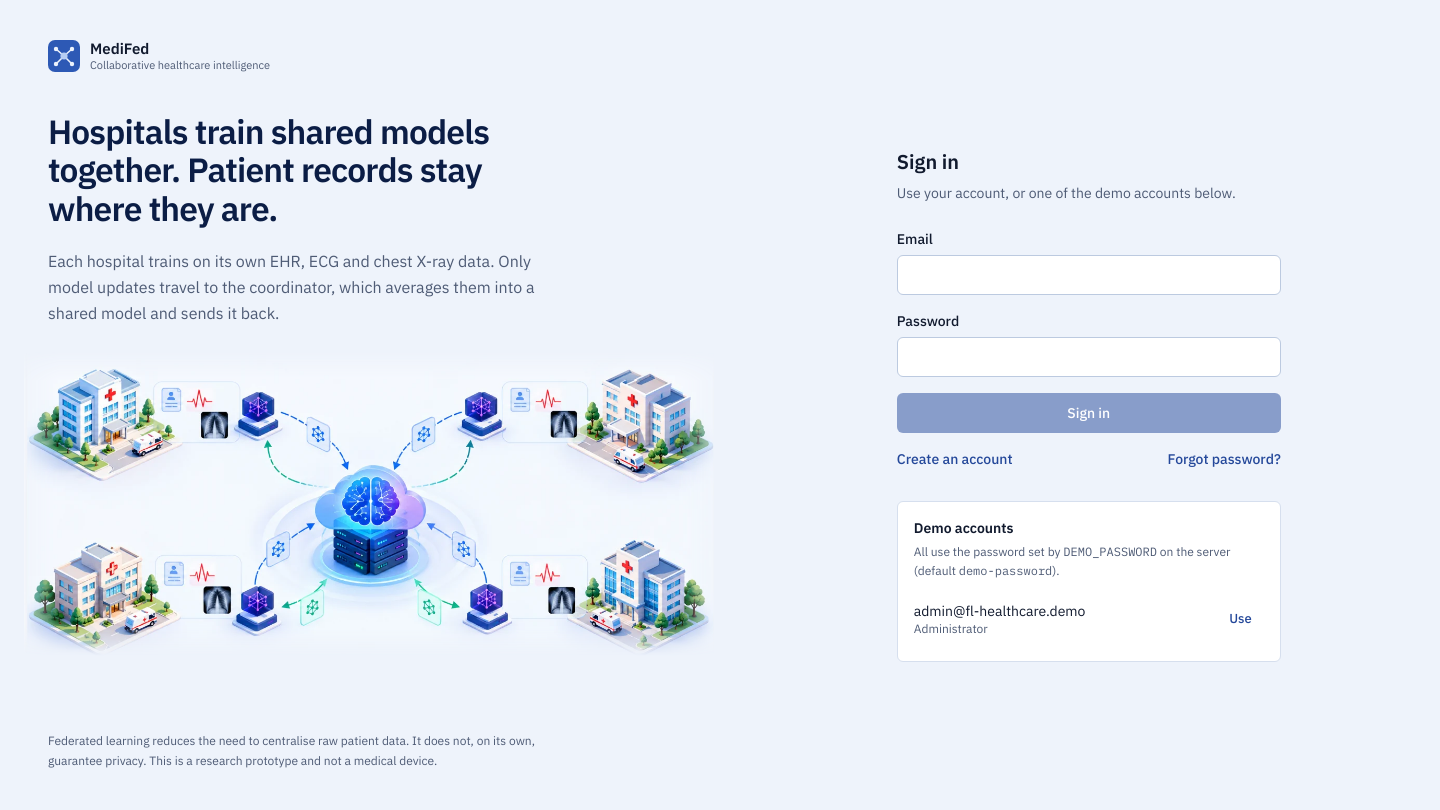
it: routing and authentication › signs in, then shows the dashboard
The image size is (1440, 810).
Type "admin@fl-healthcare.demo" into the field labelled "Email" at {"x": 1089, "y": 275}, box 897,255 -> 1281,295
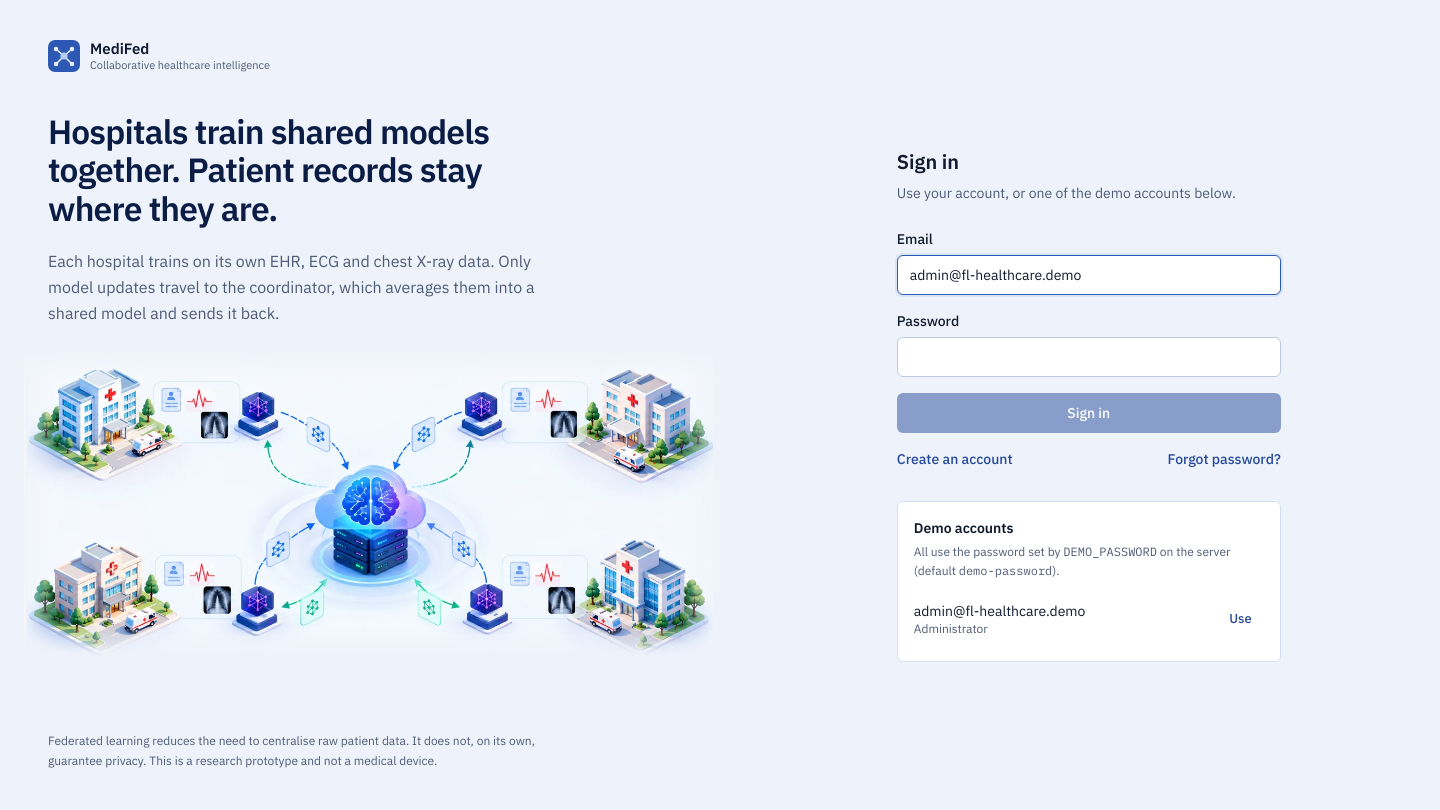
Type "demo-password" into the password field labelled "Password" at {"x": 1089, "y": 357}, box 897,337 -> 1281,377
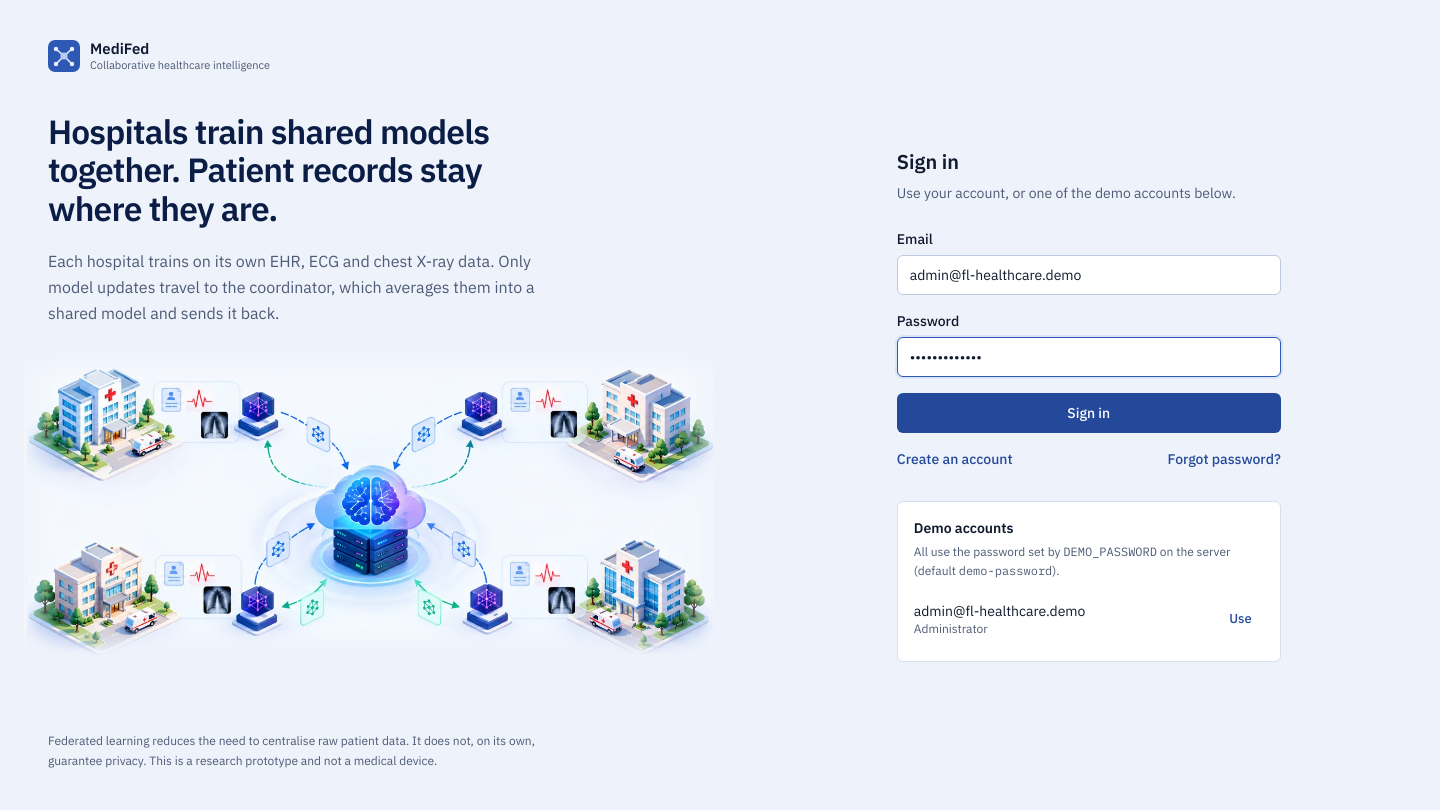
Click the button "Sign in" at {"x": 1089, "y": 413}, box 897,393 -> 1281,433
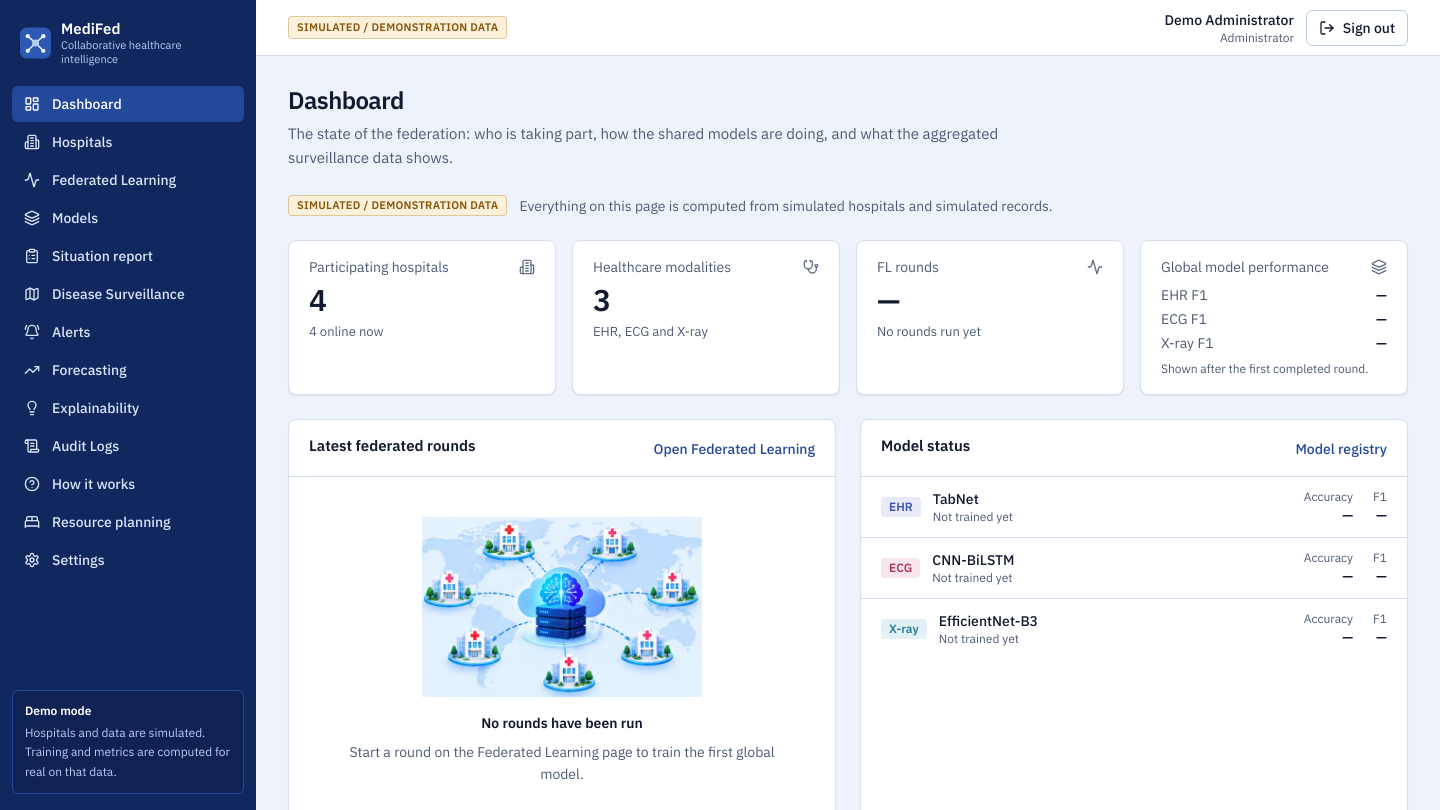
Check: the heading "Dashboard" is shown, box 288,84 -> 404,116
